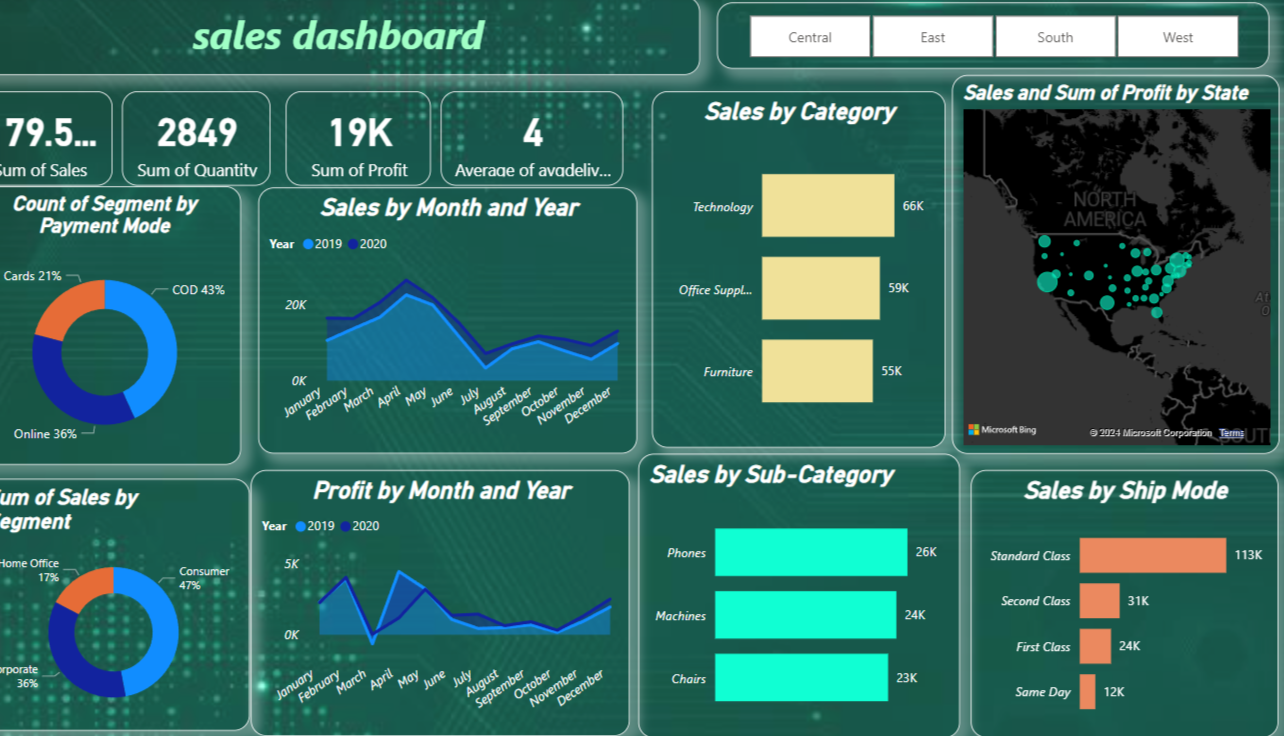

The page's visual inventory and layout, read from the dashboard file:
{"tool":"powerbi","page":{"name":"Page 1","canvas":[1280,720],"ordinal":0},"visuals":[{"type":"clusteredBarChart","title":" Sales by Category","fields":{"Category":["store_sales.Category"],"Y":["Sum(store_sales.Sales)"]},"box":[668.6,91.4,282.9,344.3],"z":0},{"type":"clusteredBarChart","title":" Sales by Sub-Category","fields":{"Category":["store_sales.Sub-Category"],"Y":["Sum(store_sales.Sales)"]},"box":[654.3,441.4,310,274.3],"z":1000},{"type":"stackedAreaChart","title":"Sales by Month and Year","fields":{"Y":["Sum(store_sales.Sales)"],"Category":["store_sales.Order Date.Variation.Date Hierarchy.Month","store_sales.Order Date.Variation.Date Hierarchy.Day"],"Series":["store_sales.Order Date.Variation.Date Hierarchy.Year"]},"box":[288.6,184.3,365.7,257.1],"z":2000},{"type":"map","title":" Sales and Sum of Profit by State","fields":{"Category":["store_sales.State"],"Size":["Sum(store_sales.Sales)"]},"box":[957.1,75.7,315.7,365.7],"z":3000},{"type":"donutChart","fields":{"Category":["store_sales.Segment"],"Y":["Sum(store_sales.Sales)"]},"box":[14.3,465.7,265.7,242.9],"z":4000},{"type":"donutChart","title":"Count of Segment by Payment Mode","fields":{"Category":["store_sales.Payment Mode"],"Y":["CountNonNull(store_sales.Segment)"]},"box":[5.7,182.9,265.7,268.6],"z":5000},{"type":"clusteredBarChart","title":" Sales by Ship Mode","fields":{"Category":["store_sales.Ship Mode"],"Y":["Sum(store_sales.Sales)"]},"box":[975.7,457.1,297.1,258.6],"z":6000},{"type":"slicer","fields":{"Values":["store_sales.Region"]},"box":[731.4,5.7,532.9,64.3],"z":7000},{"type":"textbox","box":[14.3,0,700,75.7],"z":8000},{"type":"card","fields":{"Values":["Sum(store_sales.Sales)"]},"box":[5.7,91.4,141.4,91.4],"z":9000},{"type":"card","fields":{"Values":["Sum(store_sales.Quantity)"]},"box":[157.1,91.4,142.9,91.4],"z":10000},{"type":"card","fields":{"Values":["Sum(store_sales.Profit)"]},"box":[314.3,91.4,140,91.4],"z":11000},{"type":"card","fields":{"Values":["Avg(store_sales.avgdelivery)"]},"box":[464.3,91.4,175.7,91.4],"z":12000},{"type":"stackedAreaChart","title":"Profit by Month and Year","fields":{"Category":["store_sales.Order Date.Variation.Date Hierarchy.Month","store_sales.Order Date.Variation.Date Hierarchy.Day"],"Series":["store_sales.Order Date.Variation.Date Hierarchy.Year"],"Y":["Sum(store_sales.Profit)"]},"box":[281.4,457.1,365.7,257.1],"z":13000}]}

Visuals, with their boxes in screenshot pixels (x1, y1, x2, y2), scaled from the page's 1280x720 canvas onto the 1284x736 screenshot:
" Sales by Category" clusteredBarChart: {"left": 671, "top": 93, "right": 954, "bottom": 445}
" Sales by Sub-Category" clusteredBarChart: {"left": 656, "top": 451, "right": 967, "bottom": 732}
"Sales by Month and Year" stackedAreaChart: {"left": 290, "top": 188, "right": 656, "bottom": 451}
" Sales and Sum of Profit by State" map: {"left": 960, "top": 77, "right": 1277, "bottom": 451}
donutChart - store_sales.Segment x Sum(store_sales.Sales): {"left": 14, "top": 476, "right": 281, "bottom": 724}
"Count of Segment by Payment Mode" donutChart: {"left": 6, "top": 187, "right": 272, "bottom": 462}
" Sales by Ship Mode" clusteredBarChart: {"left": 979, "top": 467, "right": 1277, "bottom": 732}
slicer - store_sales.Region: {"left": 734, "top": 6, "right": 1268, "bottom": 72}
textbox: {"left": 14, "top": 0, "right": 717, "bottom": 77}
card - Sum(store_sales.Sales): {"left": 6, "top": 93, "right": 148, "bottom": 187}
card - Sum(store_sales.Quantity): {"left": 158, "top": 93, "right": 301, "bottom": 187}
card - Sum(store_sales.Profit): {"left": 315, "top": 93, "right": 456, "bottom": 187}
card - Avg(store_sales.avgdelivery): {"left": 466, "top": 93, "right": 642, "bottom": 187}
"Profit by Month and Year" stackedAreaChart: {"left": 282, "top": 467, "right": 649, "bottom": 730}
